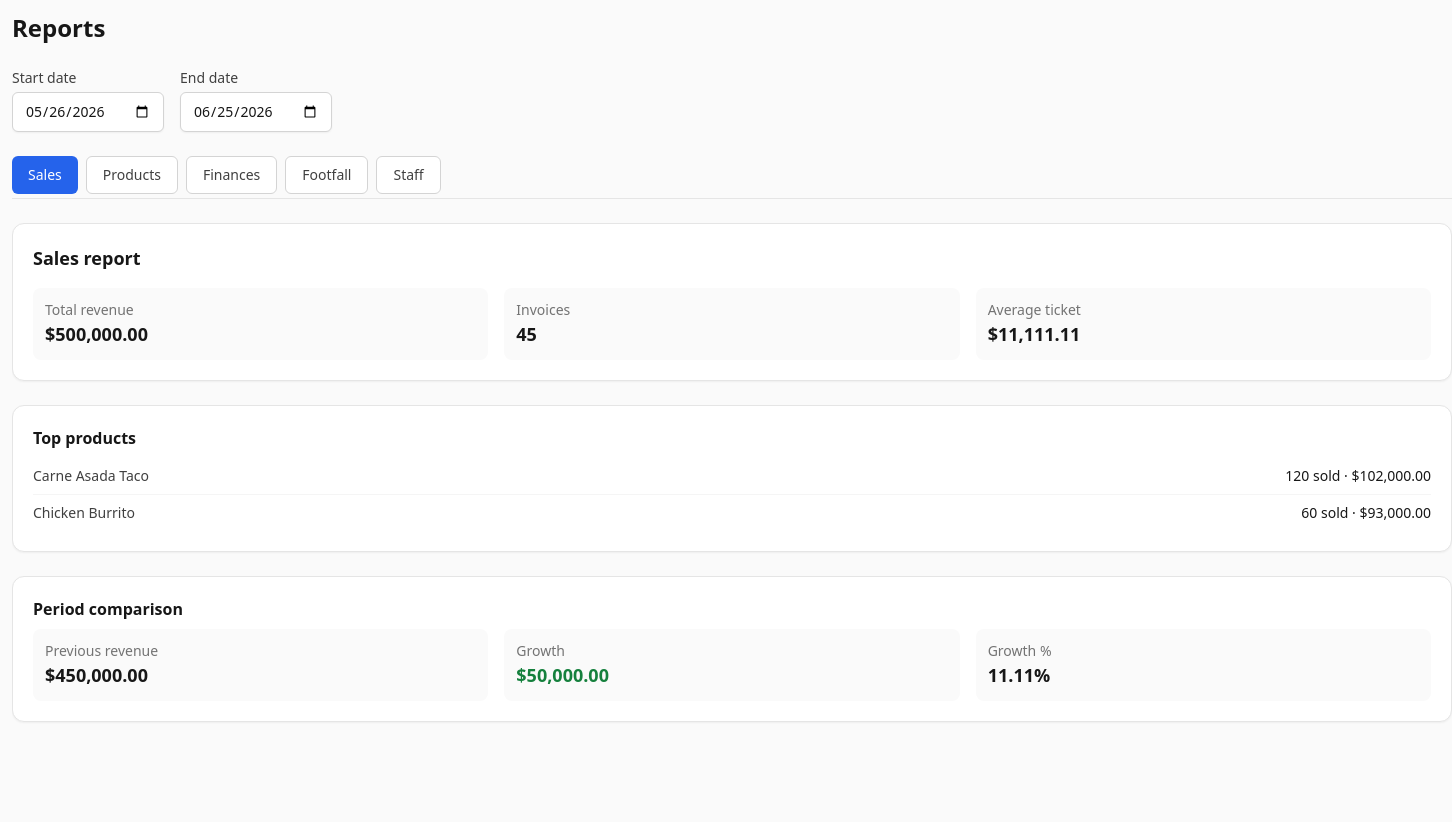
Scenario: ReportsPage › switches to footfall tab and renders footfall report
Step 1. Click the button "Footfall" → {"x": 327, "y": 175}, box x1=285 y1=156 x2=368 y2=194
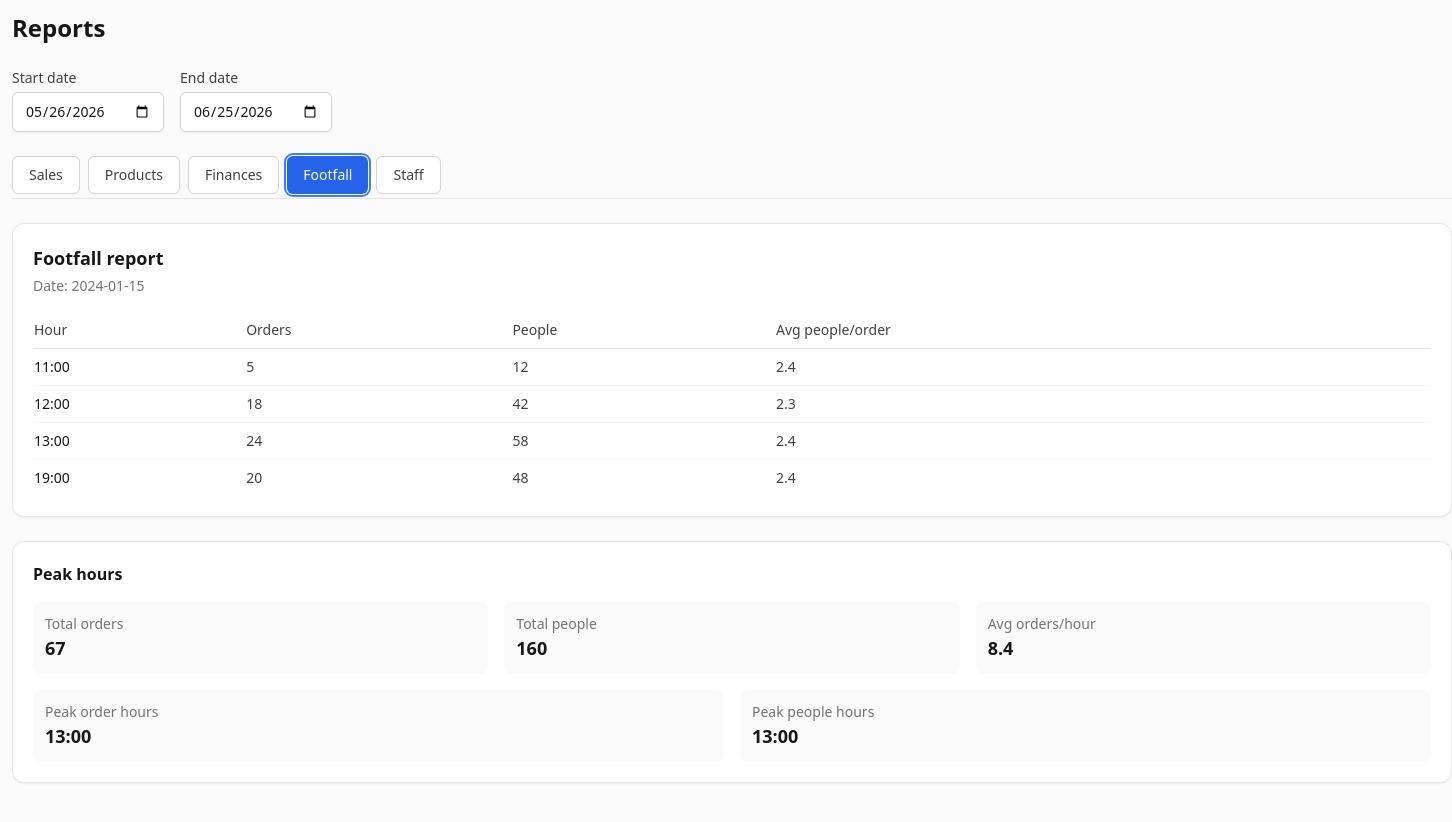
Expected: the heading "Footfall report" is shown, x1=33 y1=246 x2=164 y2=270
